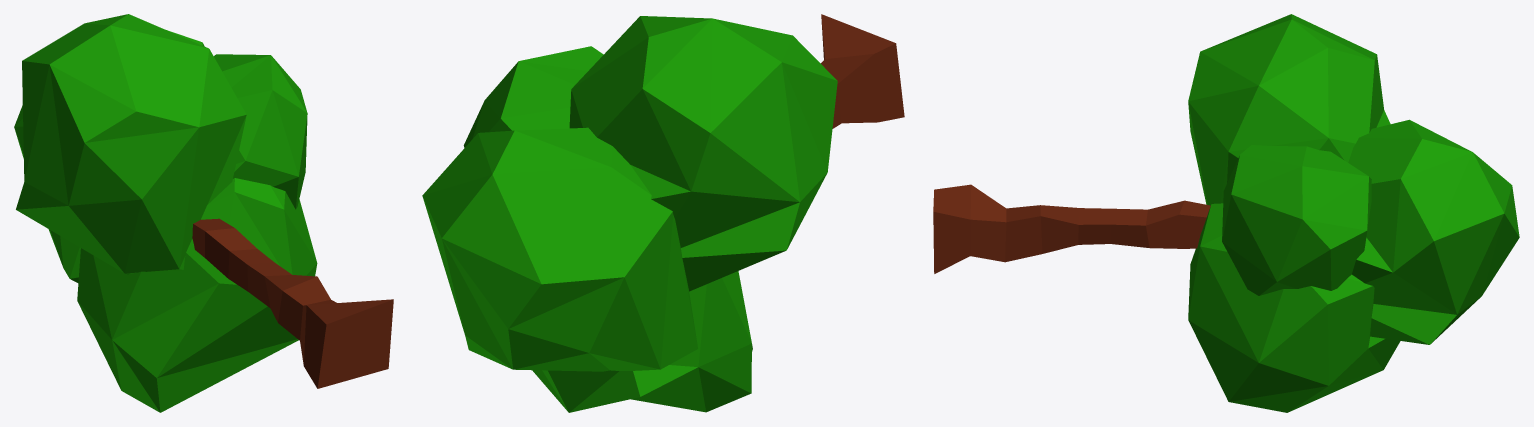
The model's file is tree2.fbx.
3 views of the same model, side by side, from view 1: azimuth 30°, elevation 25°; view 2: azimuth 150°, elevation 25°; view 3: azimuth 270°, elevation 25° (orthographic). The views are drawn at different scales.
Visible parts, largest first — view 1: Tree 2; view 2: Tree 2; view 3: Tree 2.
Part boxes in pixels (x1,y1,x2,y2): Tree 2: [14, 14, 393, 412]; Tree 2: [422, 14, 904, 412]; Tree 2: [933, 14, 1519, 412].
Bounding box in the file's own units: 39423 × 48690 × 75263.
